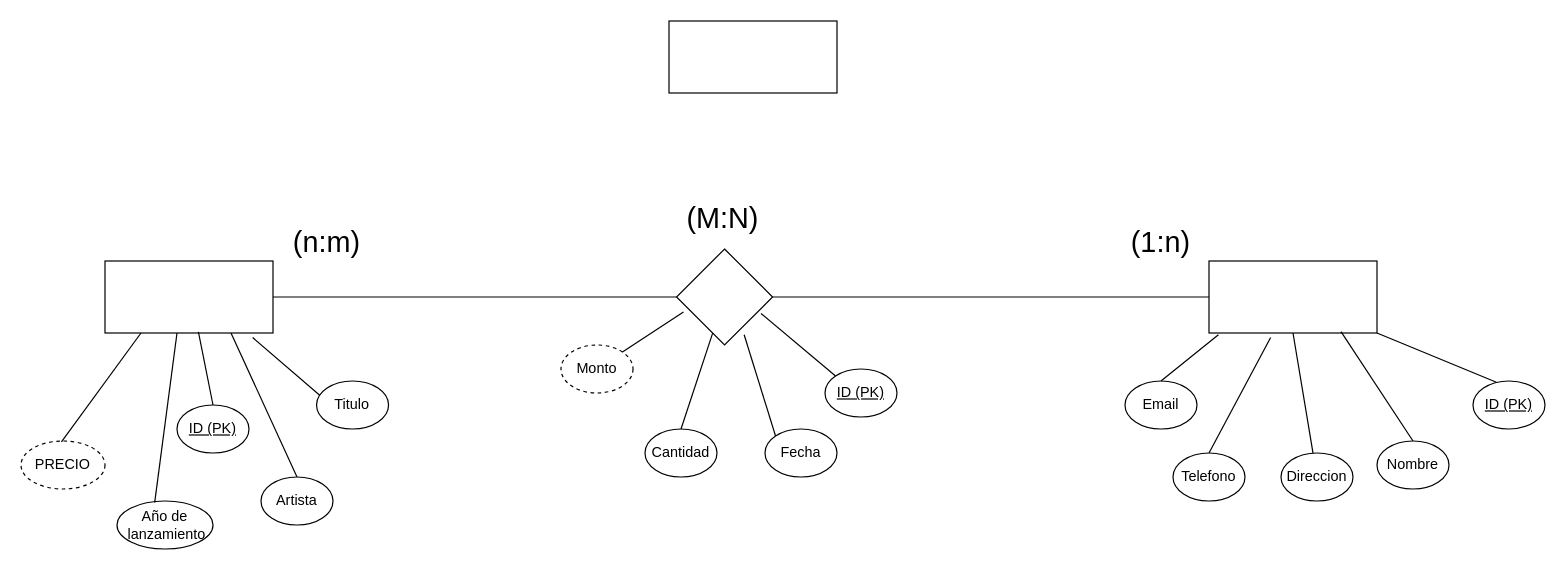
This 1566x570 diagram has some shape labels left out. Here are the shapes that lost their labels. From the top down, the centre of each, then its label:
At [752,56]: "TIENDA DE MUSICA".
At [188,296]: "DISCOS".
At [724,296]: "COMPRAR".
At [1292,296]: "CLIENTE".
